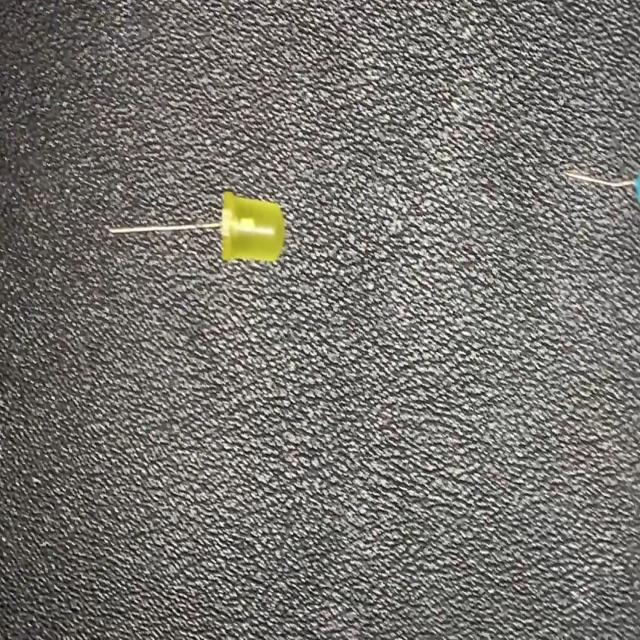missing-leg: (108, 186, 288, 267)
